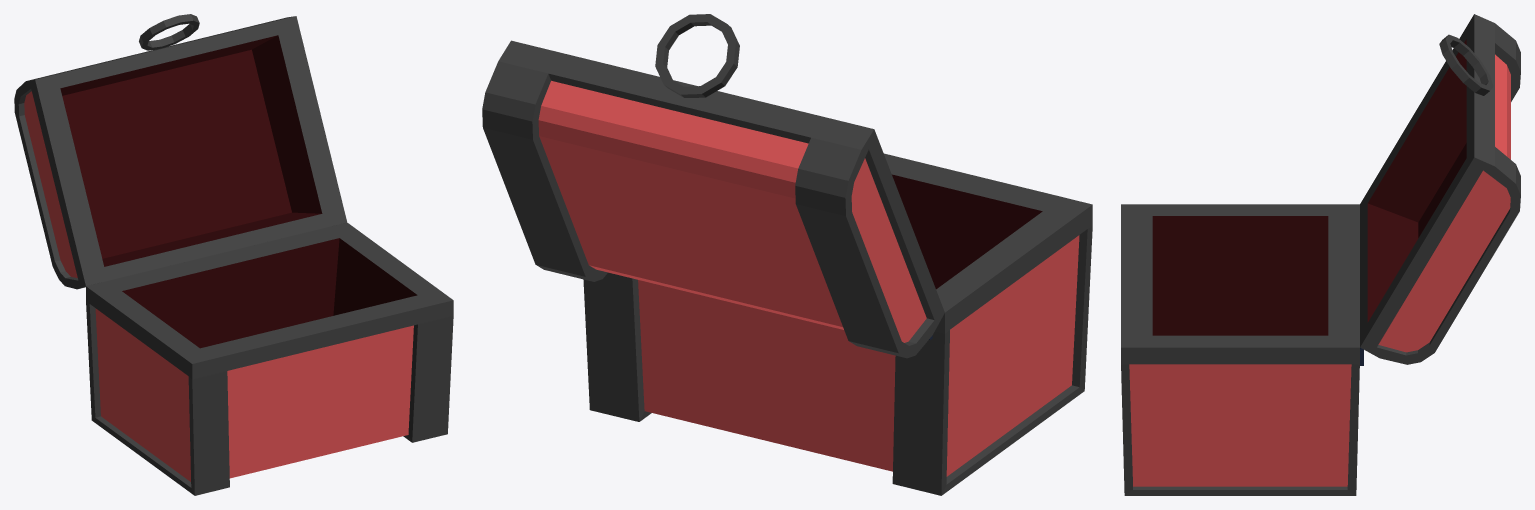
Rendered from treasure_chest_opened.fbx.
3 renders of one model, left to right at view 1: azimuth 30°, elevation 25°; view 2: azimuth 150°, elevation 25°; view 3: azimuth 270°, elevation 25°, orthographic. The views are drawn at different scales.
Visible parts, largest first — view 1: Mesh; view 2: Mesh; view 3: Mesh.
Boxes of the visible parts, x1,y1,x2,y2 form: Mesh: (14,14,453,495); Mesh: (482,14,1092,495); Mesh: (1121,14,1520,495).
Size of the model in its own units: 0.9362 by 1.18 by 1.1.
